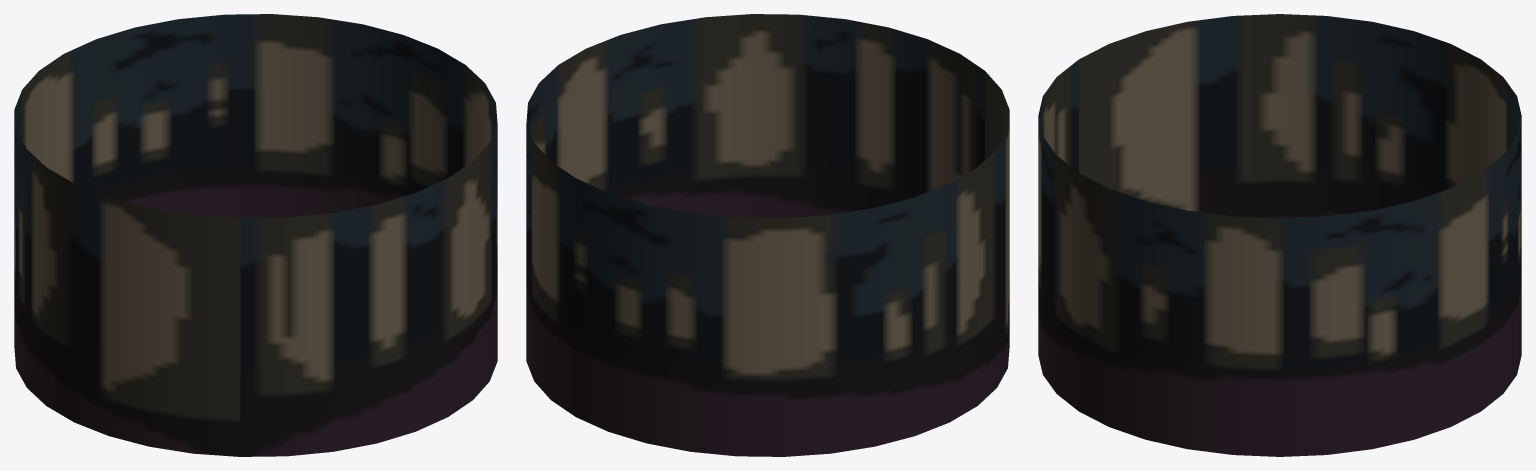
Rendered from Forest Arena.fbx.
3 views of the same model, side by side, from view 1: azimuth 30°, elevation 25°; view 2: azimuth 150°, elevation 25°; view 3: azimuth 270°, elevation 25° (orthographic).
Parts seen in each view (by area): view 1: Cylinder; view 2: Cylinder; view 3: Cylinder.
Part boxes in pixels (x1,y1,x2,y2): Cylinder: (14, 14, 497, 456); Cylinder: (526, 14, 1009, 456); Cylinder: (1038, 14, 1521, 456).
Bounding box in the file's own units: 5774 × 3144 × 5774.
Materials: 2 (2 with a texture image).
